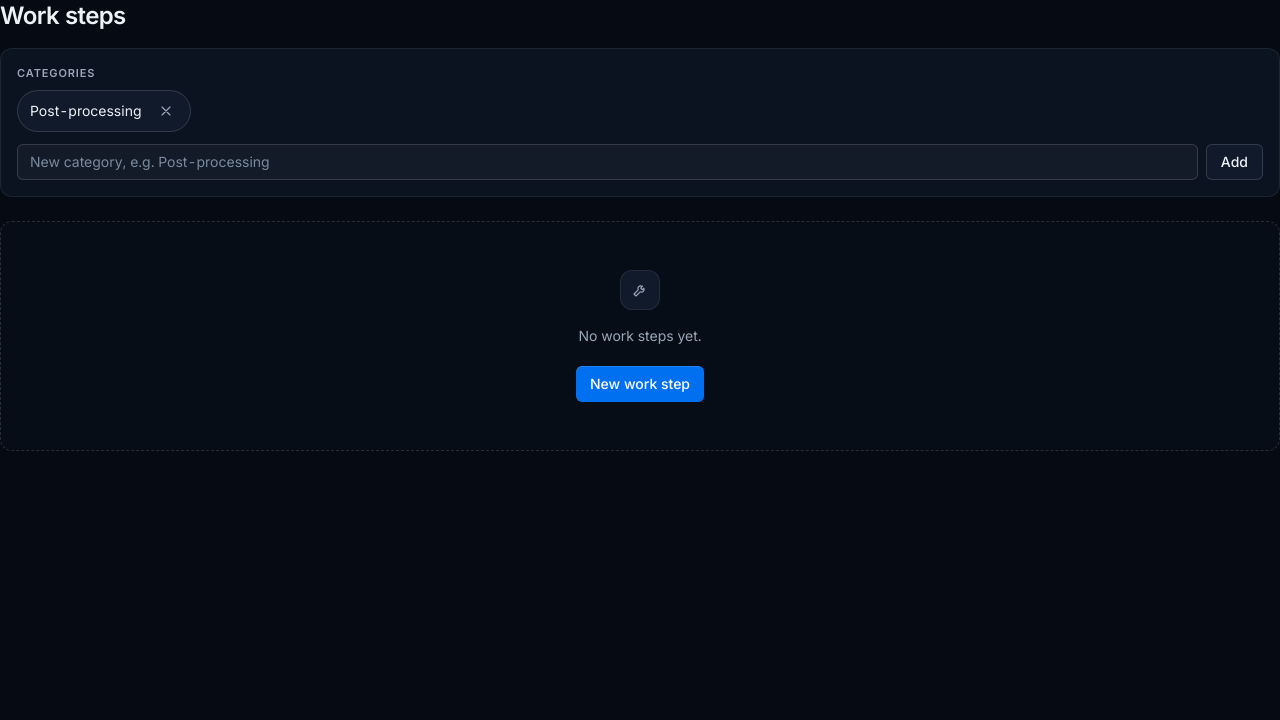
WorkstepView › groups the work step form into labelled sections
Click the button "New work step" at coordinates (640, 384), box [576,366,704,402]
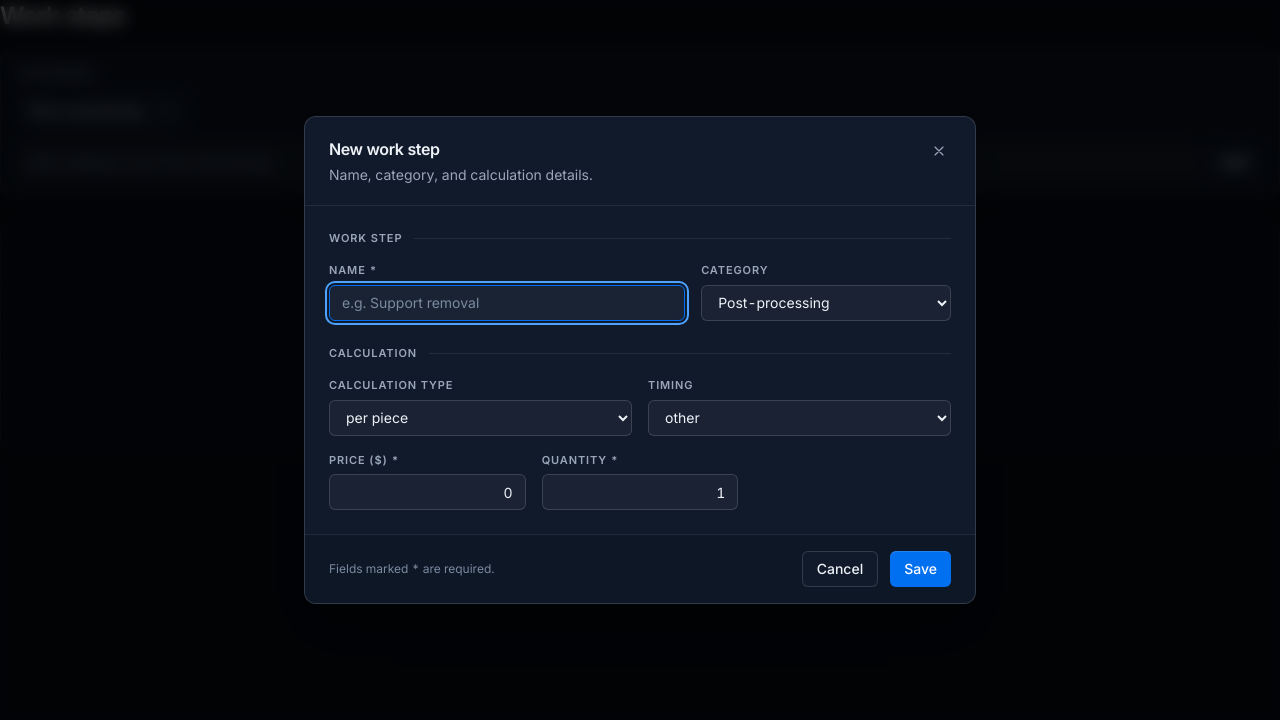
Expected: the heading "Work step" is shown, [329,230,402,246]
Expected: the heading "Calculation" is shown, [329,345,417,361]
Expected: the text "Fields marked * are required." is shown, [329,561,494,577]
